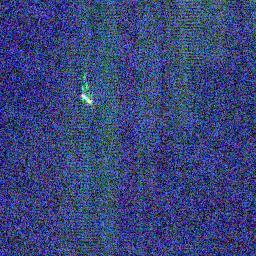Ship: (79, 91, 94, 105)
